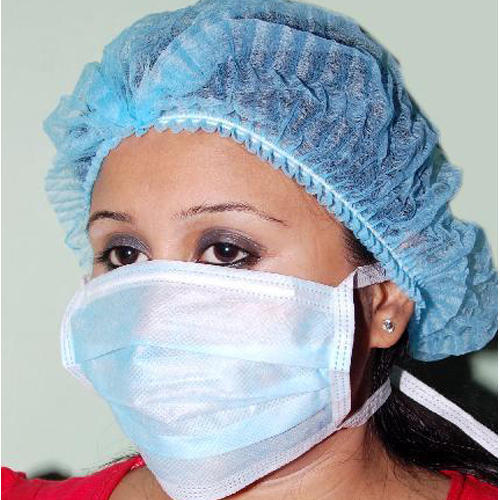with_mask_and_cap: (57, 3, 410, 500)
